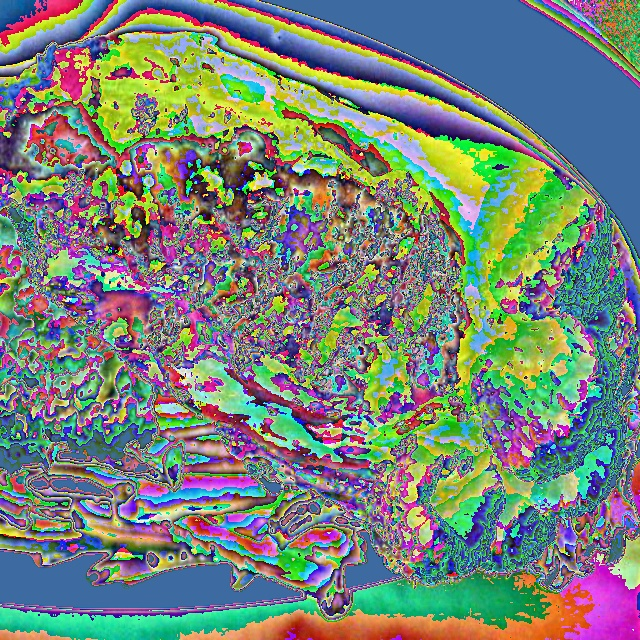background: (0, 29, 640, 621)
